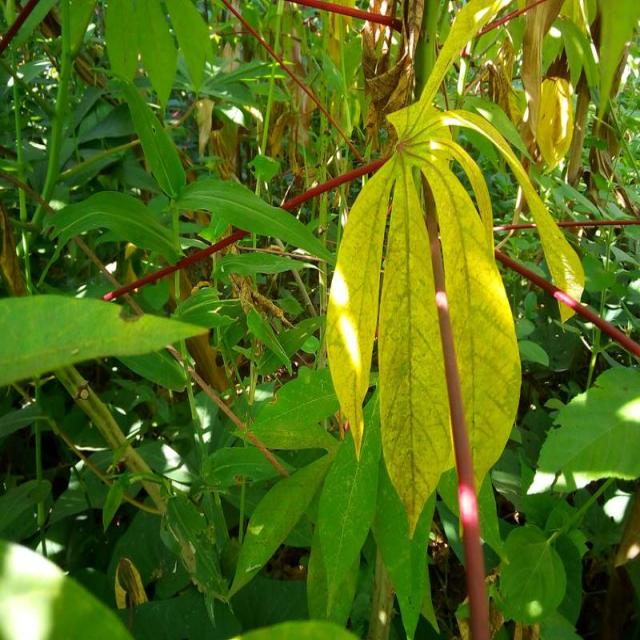cassava leaf: (322, 0, 584, 539), (0, 291, 211, 388)
